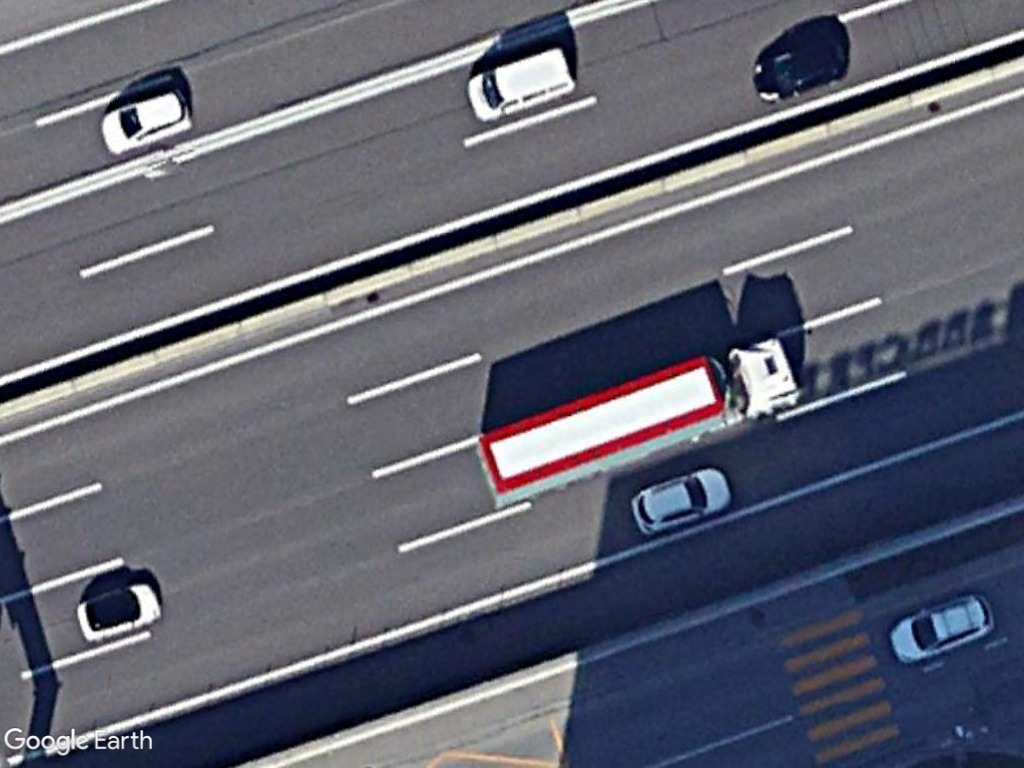car: (888, 592, 996, 667), (629, 463, 731, 536), (99, 85, 193, 158), (73, 578, 162, 644)
longvehicle: (477, 332, 795, 510)
van: (466, 43, 576, 126)
